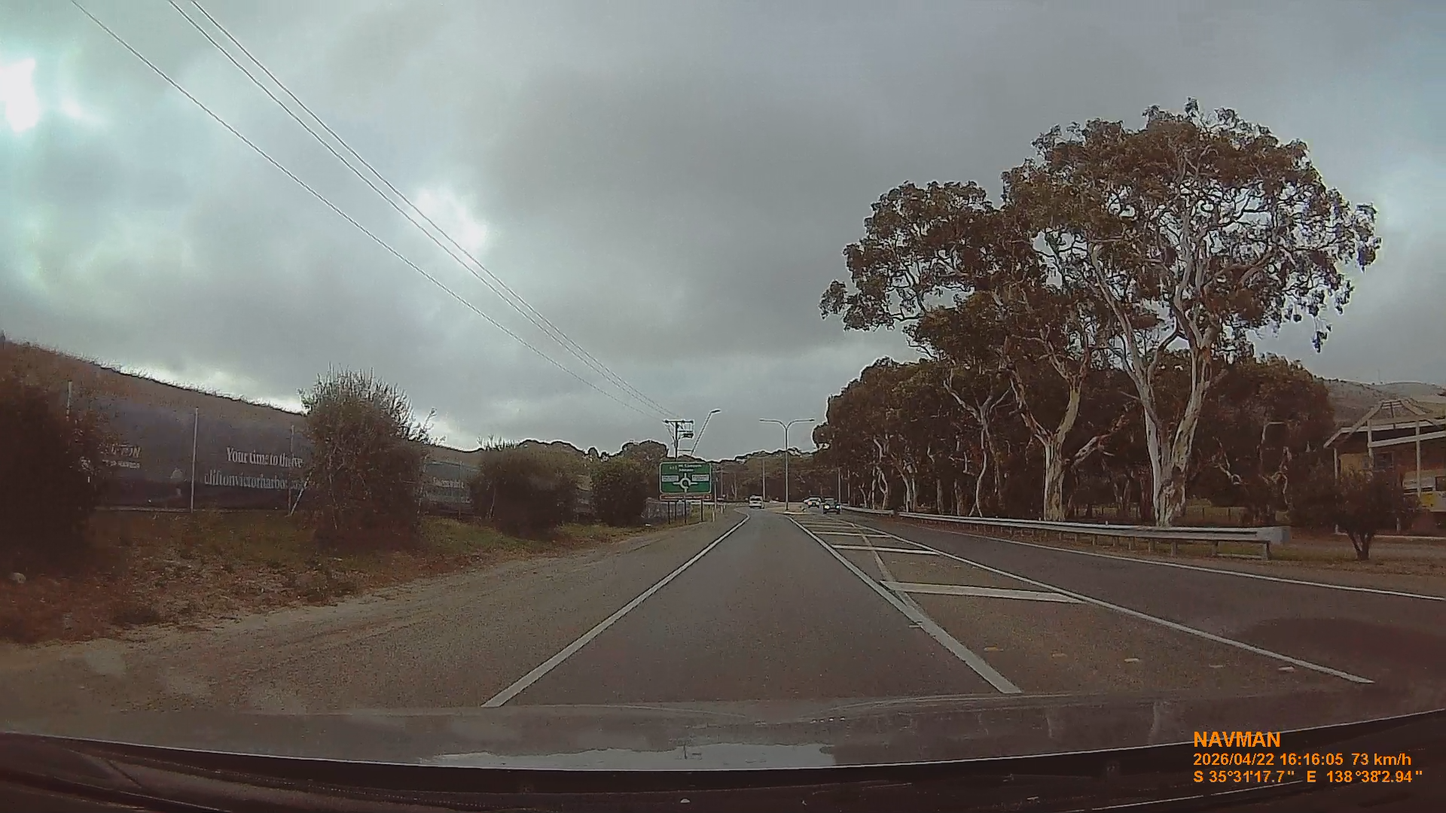road barriers: (892, 515, 1280, 563)
